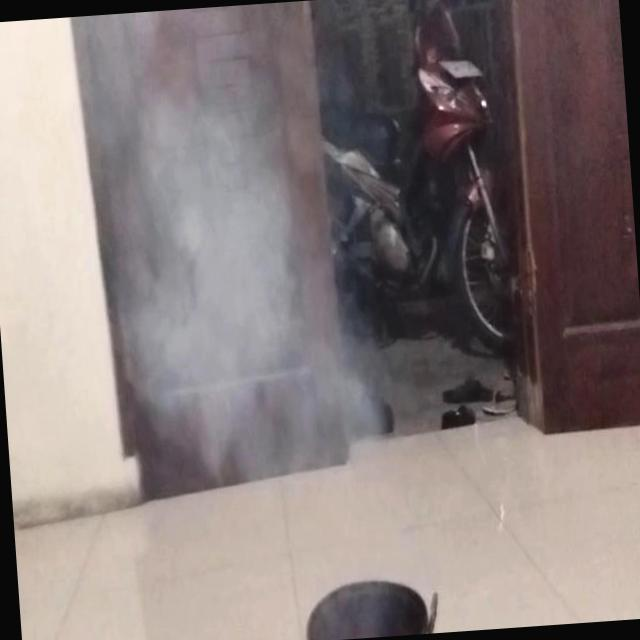smoke: (26, 1, 368, 334), (82, 312, 460, 584)
